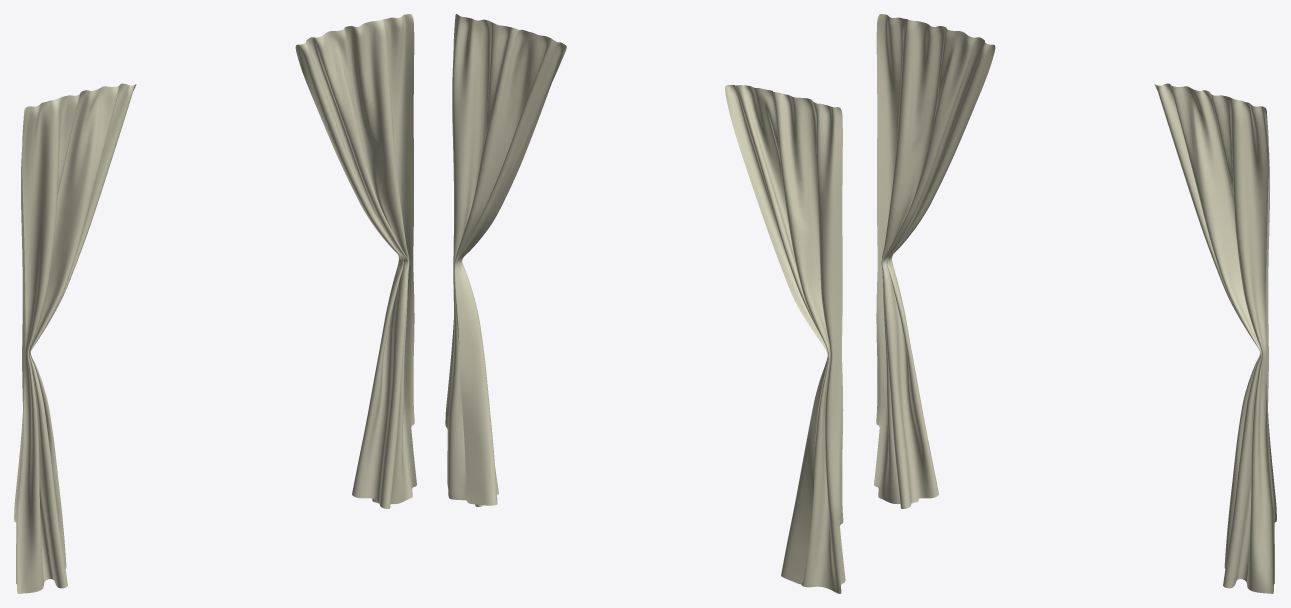
File: zaslony1.fbx
The picture shows the model from 3 angles, left to right: view 1: azimuth 30°, elevation 25°; view 2: azimuth 150°, elevation 25°; view 3: azimuth 330°, elevation 25°; orthographic projection.
Parts seen in each view (by area): view 1: Plane.004, Plane.001; view 2: Plane.001, Plane.004; view 3: Plane.001, Plane.004.
Part boxes in pixels (<box>): Plane.004: <box>295,14,416,508</box>; Plane.001: <box>14,83,136,593</box>; Plane.001: <box>725,85,845,593</box>; Plane.004: <box>445,14,566,506</box>; Plane.001: <box>874,14,995,508</box>; Plane.004: <box>1154,83,1276,593</box>.
Size of the model in its own units: 1612 by 1878 by 155.
